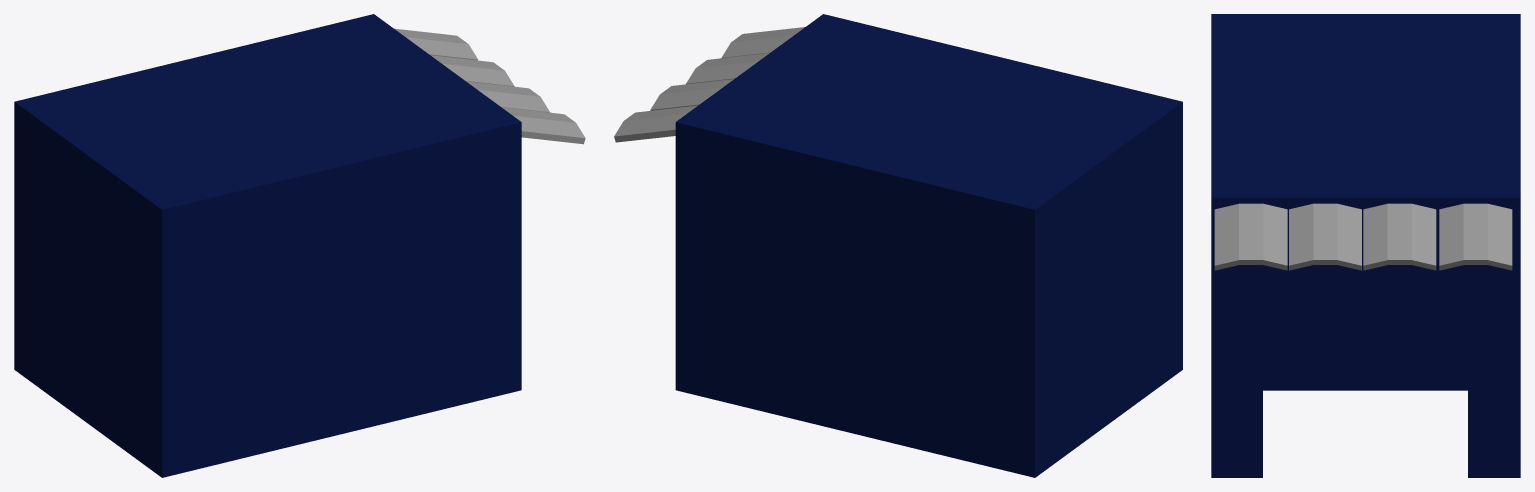
Rendered from Camelo_Aberto.fbx.
3 views of the same model, side by side, from view 1: azimuth 30°, elevation 25°; view 2: azimuth 150°, elevation 25°; view 3: azimuth 270°, elevation 25° (orthographic). The views are drawn at different scales.
Visible parts, largest first — view 1: Cube; view 2: Cube; view 3: Cube.
Boxes of the visible parts, x1=… form: Cube: x1=14, y1=14, x2=585, y2=477; Cube: x1=614, y1=14, x2=1182, y2=477; Cube: x1=1211, y1=14, x2=1520, y2=477.
Bounding box in the file's own units: 5 × 3 × 3.
